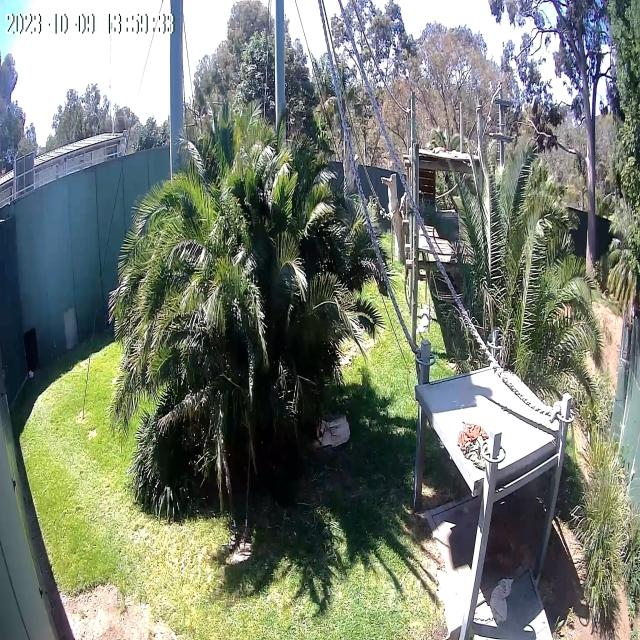orangutan: (478, 513, 524, 576)
